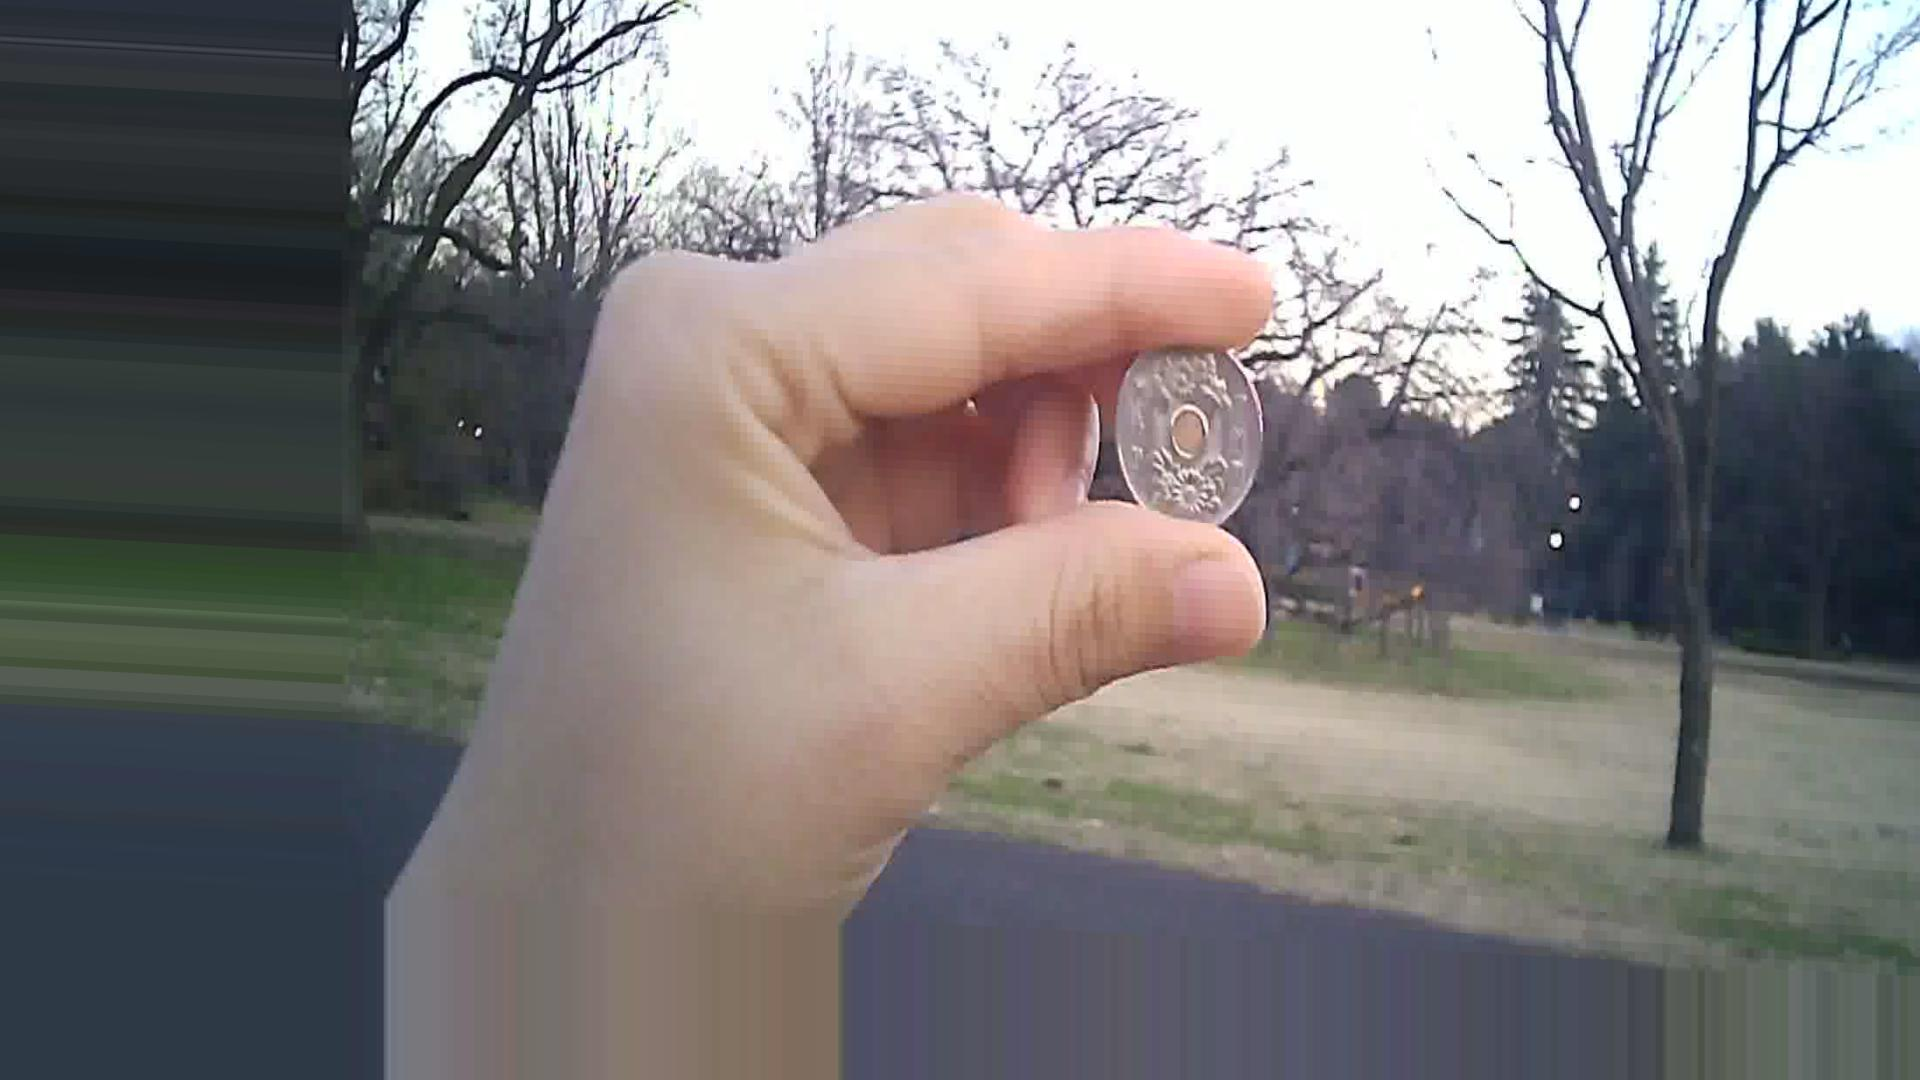50 Yen: (1124, 328, 1276, 543)
